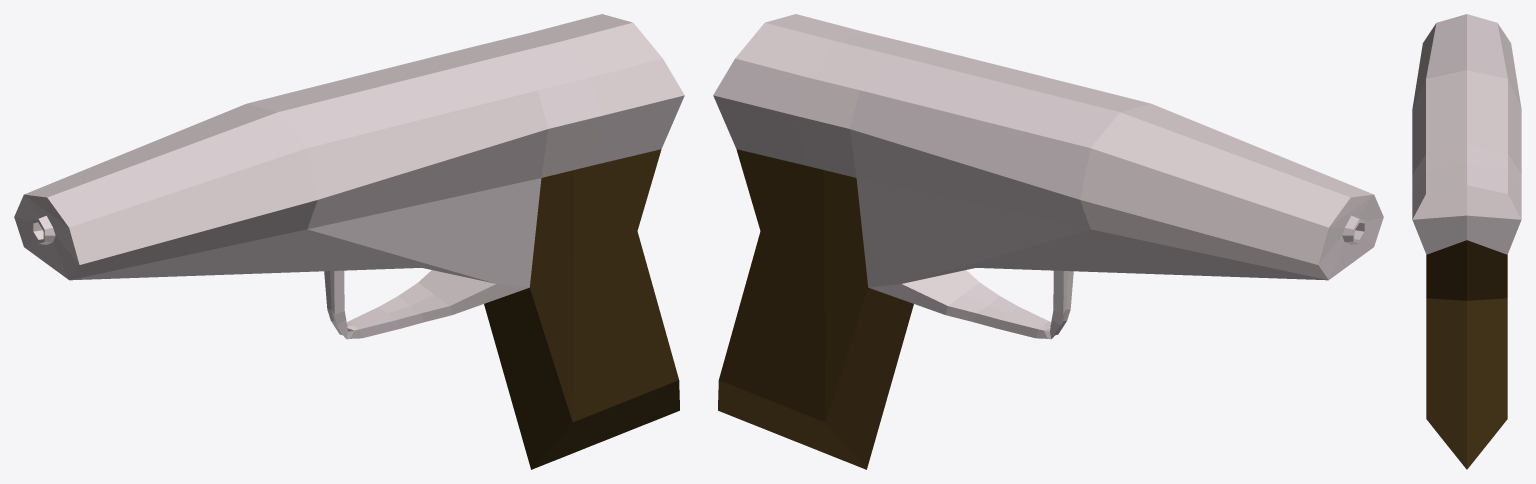
Rendered from Pistol.fbx.
3 renders of one model, left to right at view 1: azimuth 30°, elevation 25°; view 2: azimuth 150°, elevation 25°; view 3: azimuth 270°, elevation 25°, orthographic. The views are drawn at different scales.
Visible parts, largest first — view 1: Pistol; view 2: Pistol; view 3: Pistol.
Boxes of the visible parts, x1=… form: Pistol: x1=14, y1=14, x2=684, y2=469; Pistol: x1=713, y1=14, x2=1383, y2=469; Pistol: x1=1412, y1=14, x2=1521, y2=469.
Bounding box in the file's own units: 422 × 265 × 92.21.
